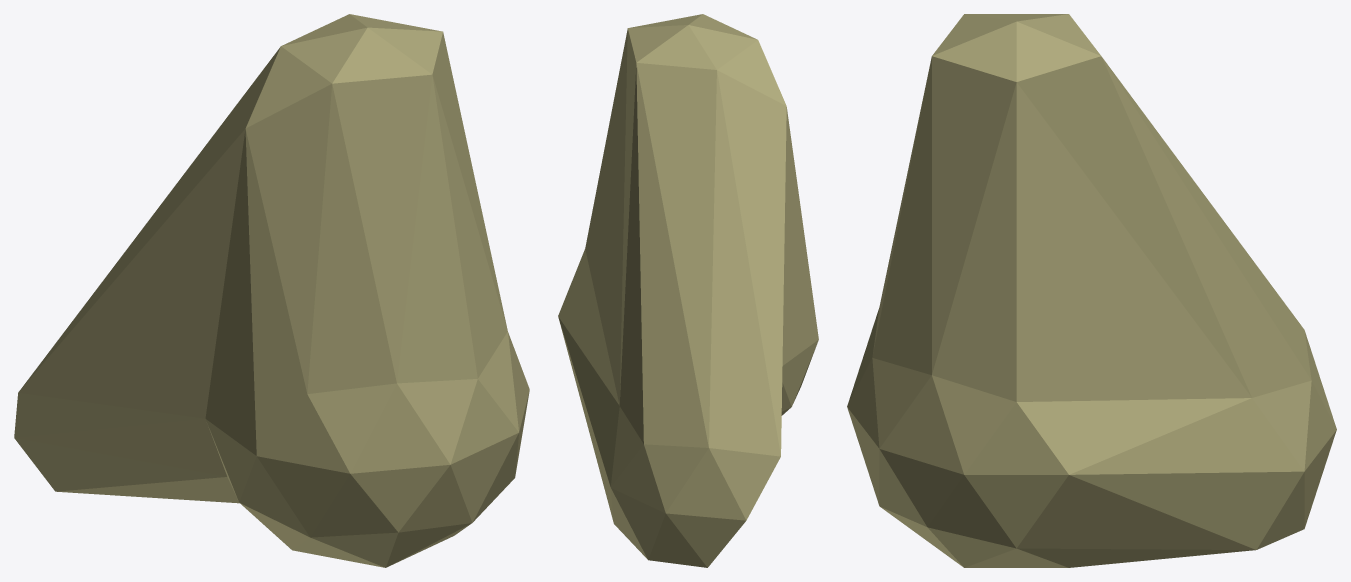
The picture shows the model from 3 angles, left to right: view 1: azimuth 30°, elevation 25°; view 2: azimuth 150°, elevation 25°; view 3: azimuth 270°, elevation 25°; orthographic projection. The views are drawn at different scales.
Parts seen in each view (by area): view 1: Asteroid 4; view 2: Asteroid 4; view 3: Asteroid 4.
Boxes of the visible parts, left/top/right/bottom form: Asteroid 4: left=14, top=14, right=529, bottom=567; Asteroid 4: left=558, top=14, right=818, bottom=567; Asteroid 4: left=847, top=14, right=1336, bottom=567.
Bounding box in the file's own units: 257 × 360 × 289.
